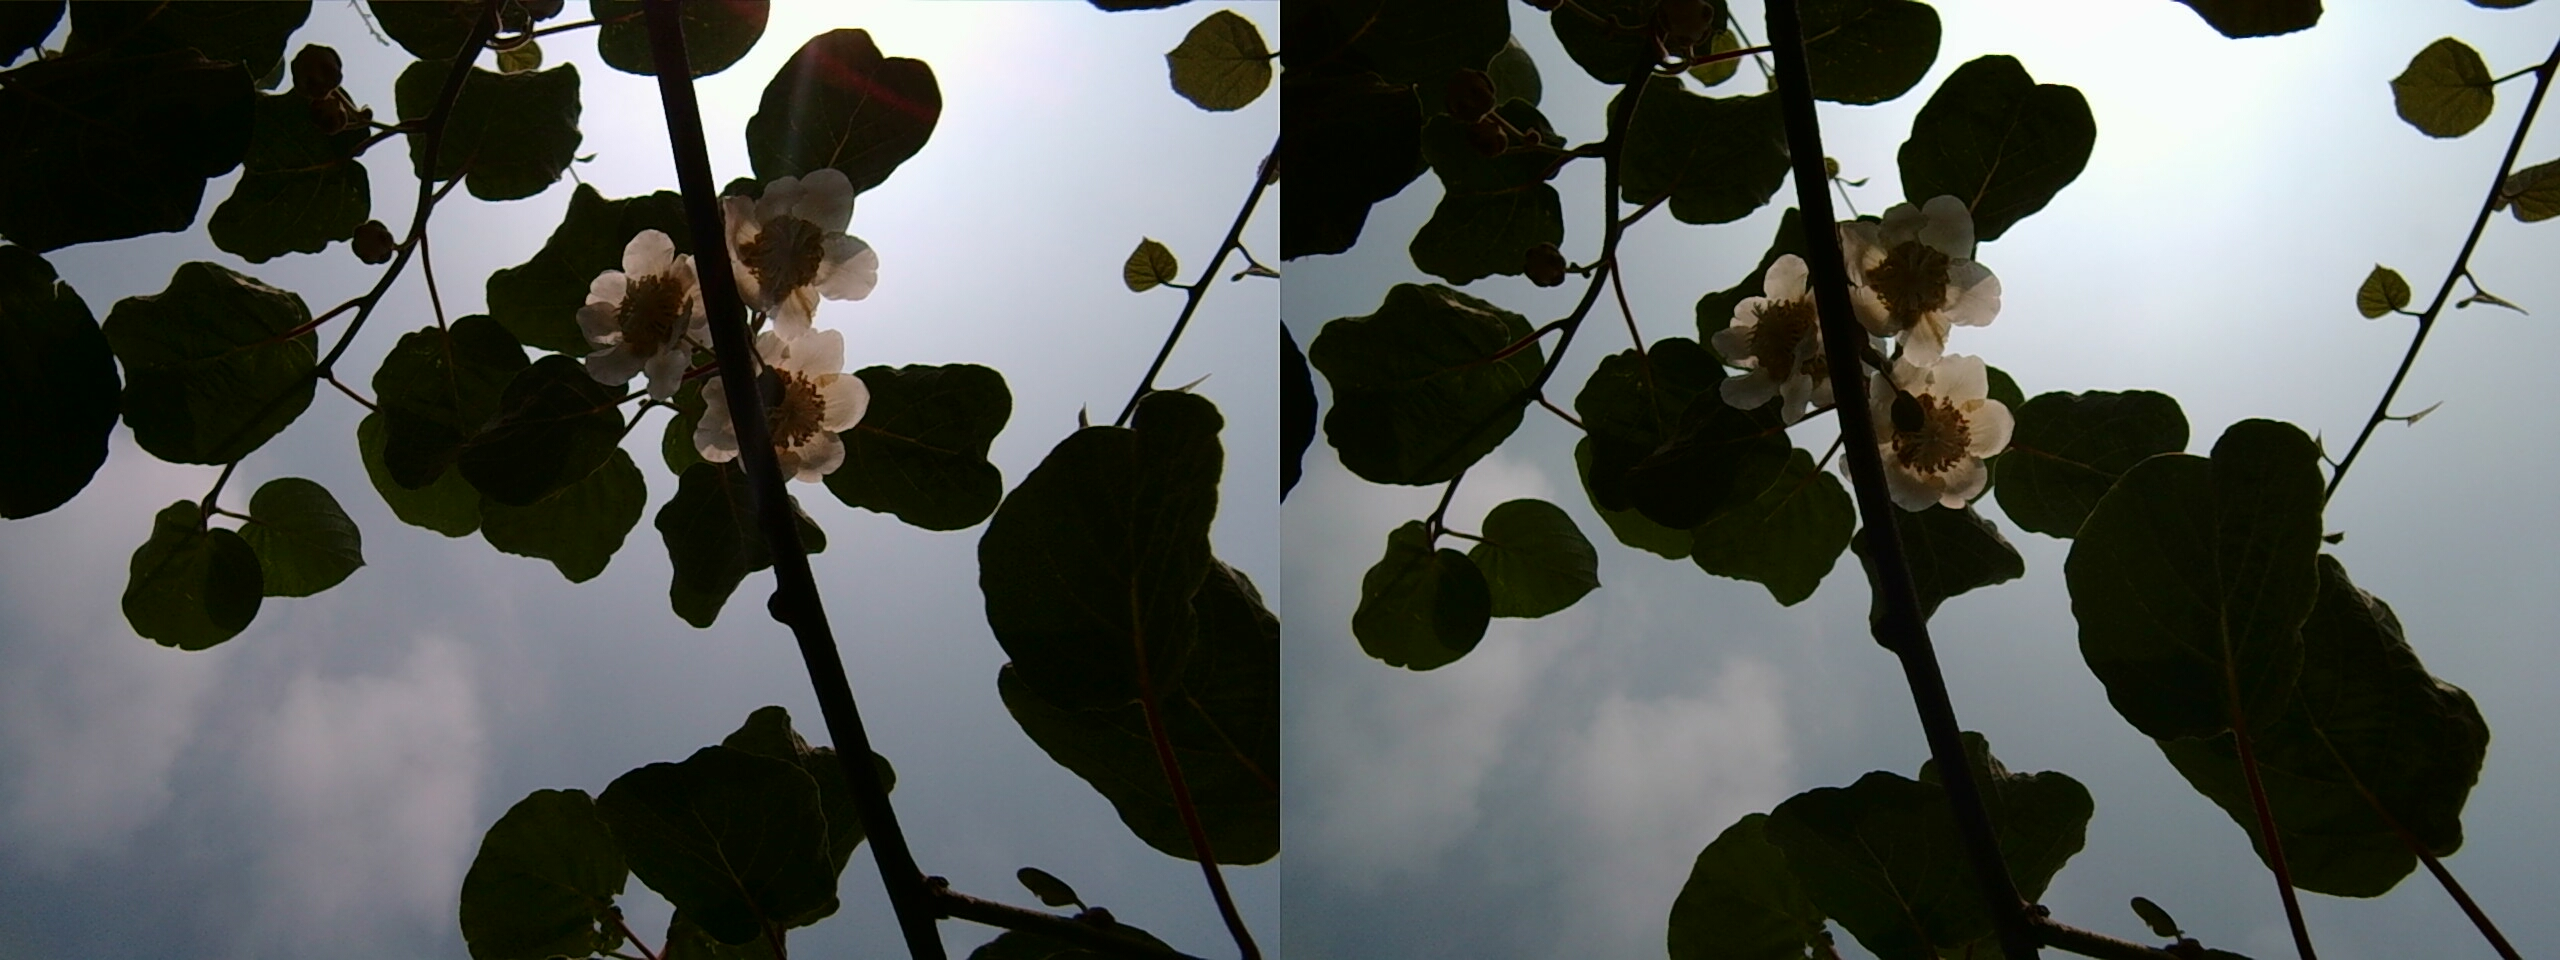flower: (1830, 193, 2002, 349), (1851, 341, 2020, 500), (715, 163, 875, 327), (567, 225, 710, 387), (709, 328, 864, 470), (1700, 260, 1830, 407)
